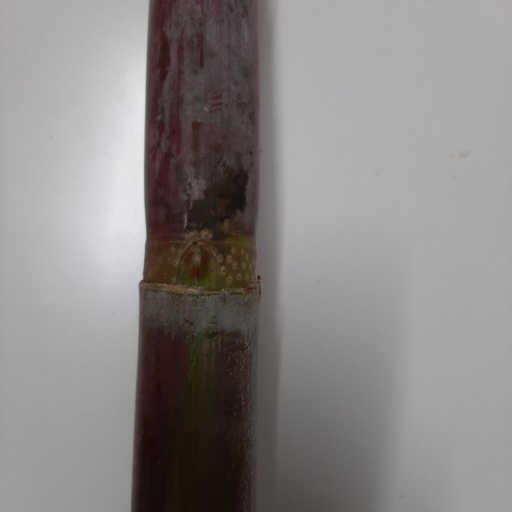Bud: (180, 242, 215, 287)
